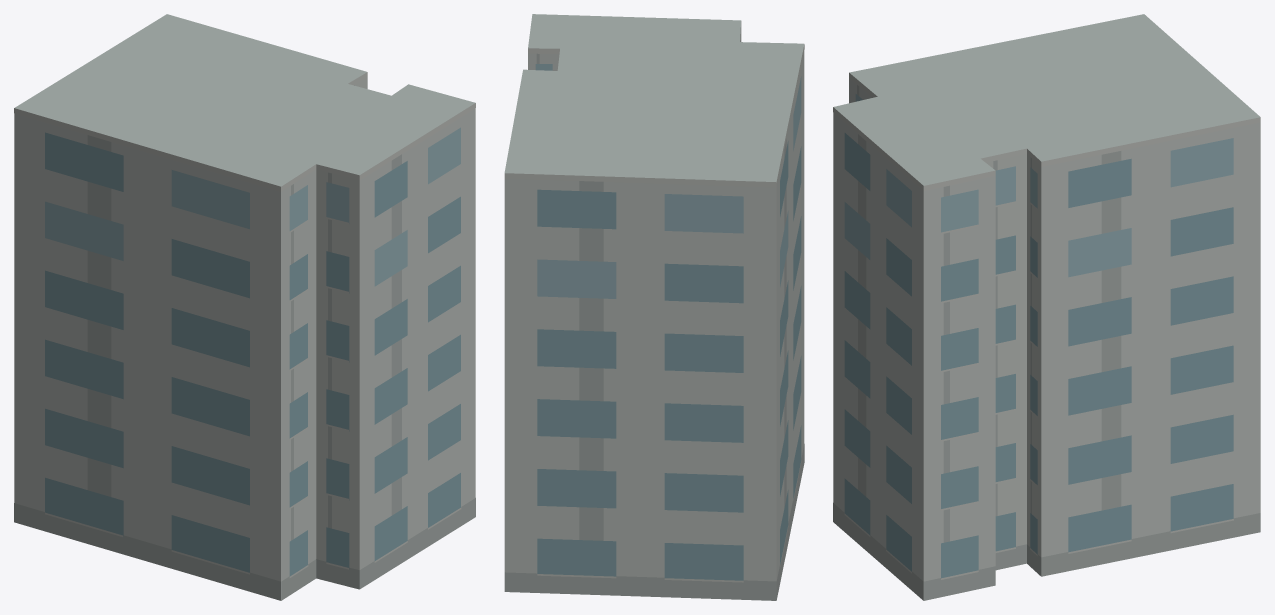
File: survey-upis-32826161.glb
3 renders of one model, left to right at view 1: azimuth 30°, elevation 25°; view 2: azimuth 150°, elevation 25°; view 3: azimuth 270°, elevation 25°, orthographic.
Visible parts, largest first — view 1: survey-upis-32826161.tmp; view 2: survey-upis-32826161.tmp; view 3: survey-upis-32826161.tmp.
Part boxes in pixels (x1,y1,x2,y2): survey-upis-32826161.tmp: (14, 14, 475, 600); survey-upis-32826161.tmp: (504, 14, 804, 600); survey-upis-32826161.tmp: (833, 14, 1260, 600).
Bounding box in the file's own units: 16.89 × 19.01 × 17.76.
